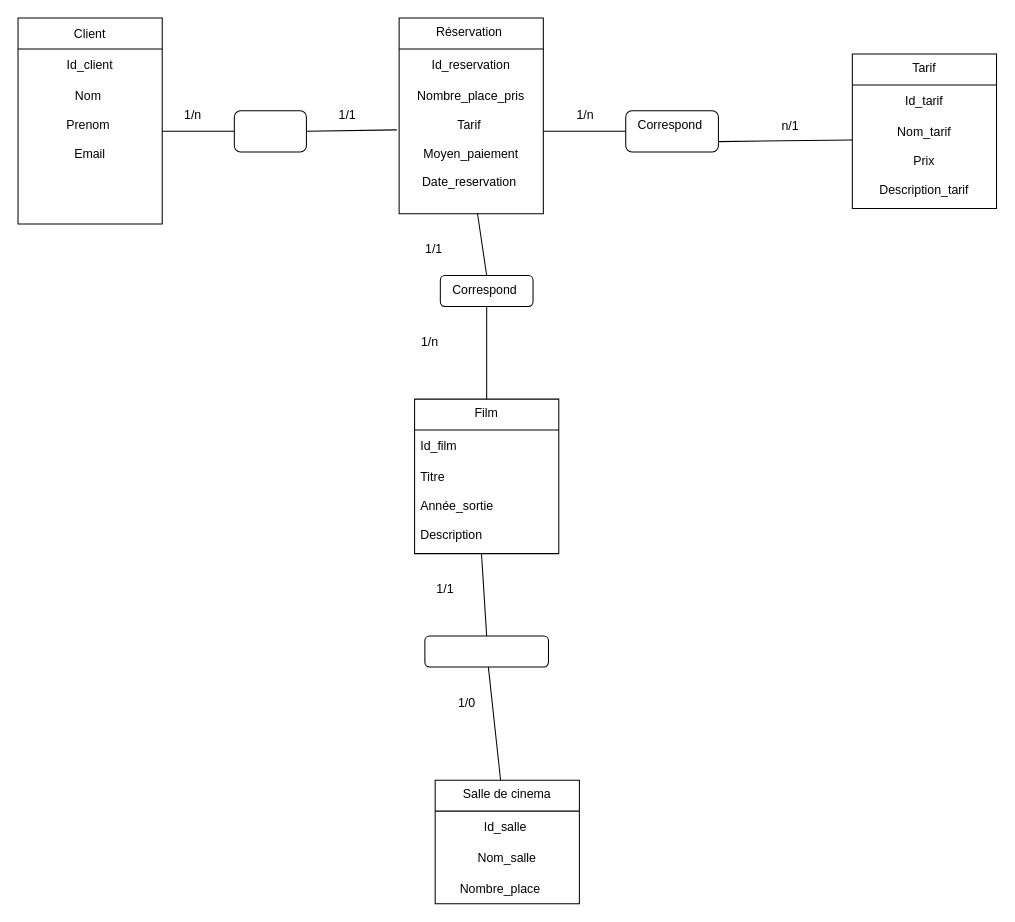
This 1015x922 diagram has some shape labels left out. Each missing label, with the centre of its shape:
"Projette" goes at point 486,651.
"Realise" goes at point 269,131.
